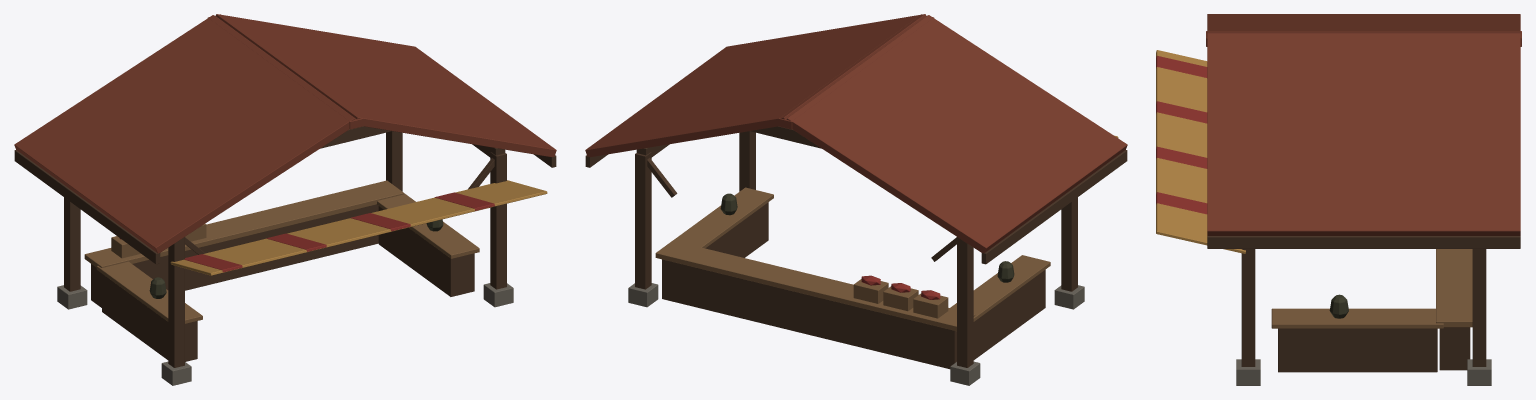
File: V_Halles.glb
3 views of the same model, side by side, from view 1: azimuth 30°, elevation 25°; view 2: azimuth 150°, elevation 25°; view 3: azimuth 270°, elevation 25° (orthographic). The views are drawn at different scales.
Parts seen in each view (by area): view 1: V_Halles; view 2: V_Halles; view 3: V_Halles.
Part boxes in pixels (<box>): V_Halles: <box>14,14,556,385</box>; V_Halles: <box>585,14,1127,385</box>; V_Halles: <box>1156,14,1521,385</box>.
Bounding box in the file's own units: 8.35 × 4.7 × 5.95.
